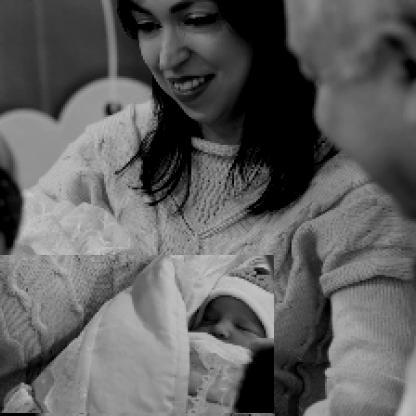child: (1, 256, 276, 415)
